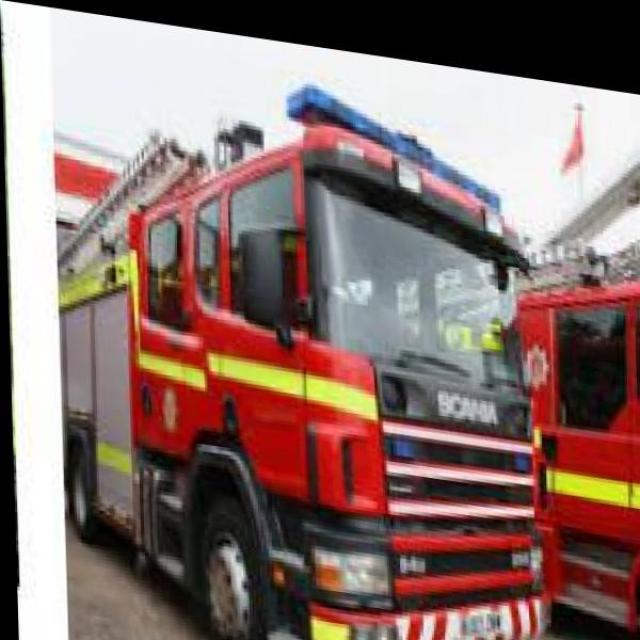emergency: (54, 82, 554, 638), (508, 248, 638, 634)
